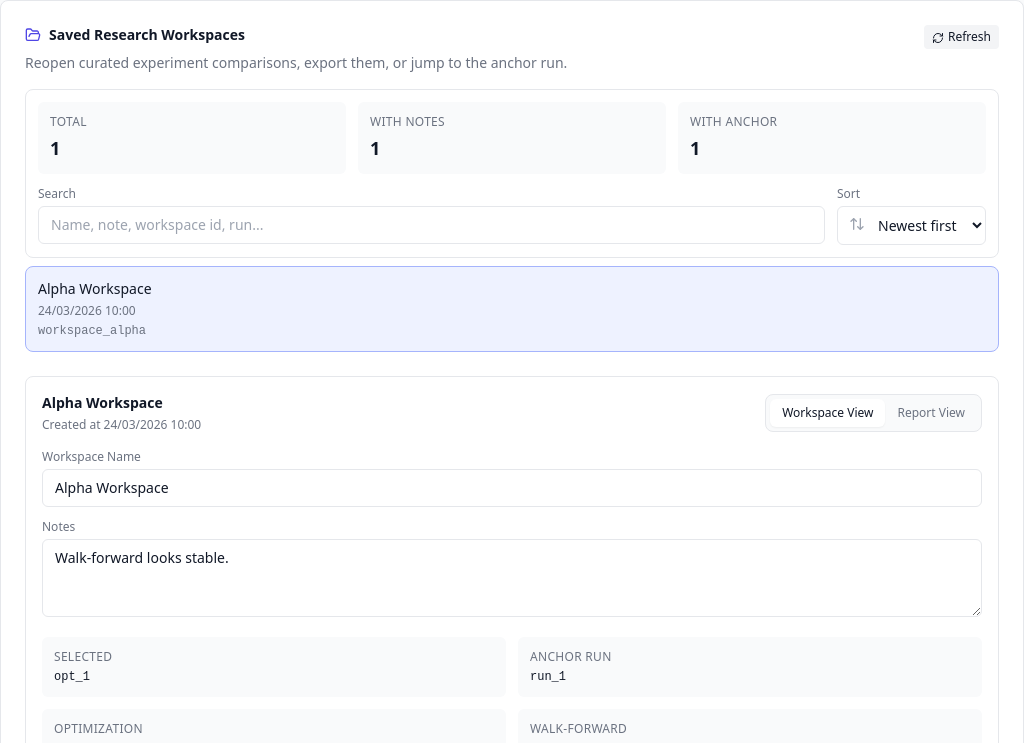
Scenario: SavedResearchWorkspacesPanel › shows a dedicated report view for the selected workspace
Click the button "Report View": click(931, 413) [886,399,977,427]
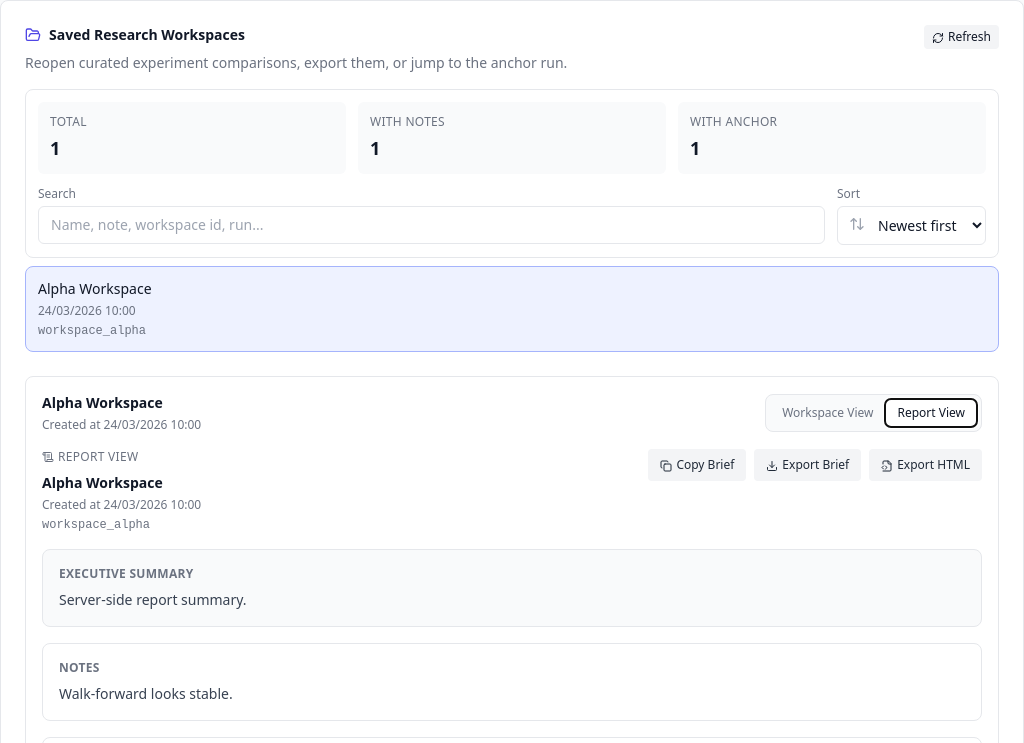
Expected: the text "Executive Summary" is shown, [59,565,194,582]
Expected: the button "Copy Brief" is shown, [648,449,746,481]
